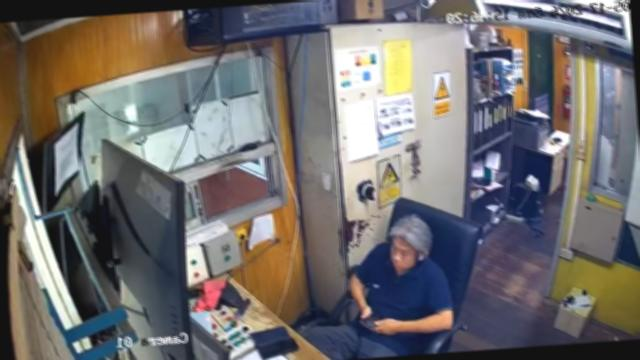Head: (378, 212, 436, 273)
People: (292, 212, 457, 360)
Phone: (252, 334, 301, 360)
